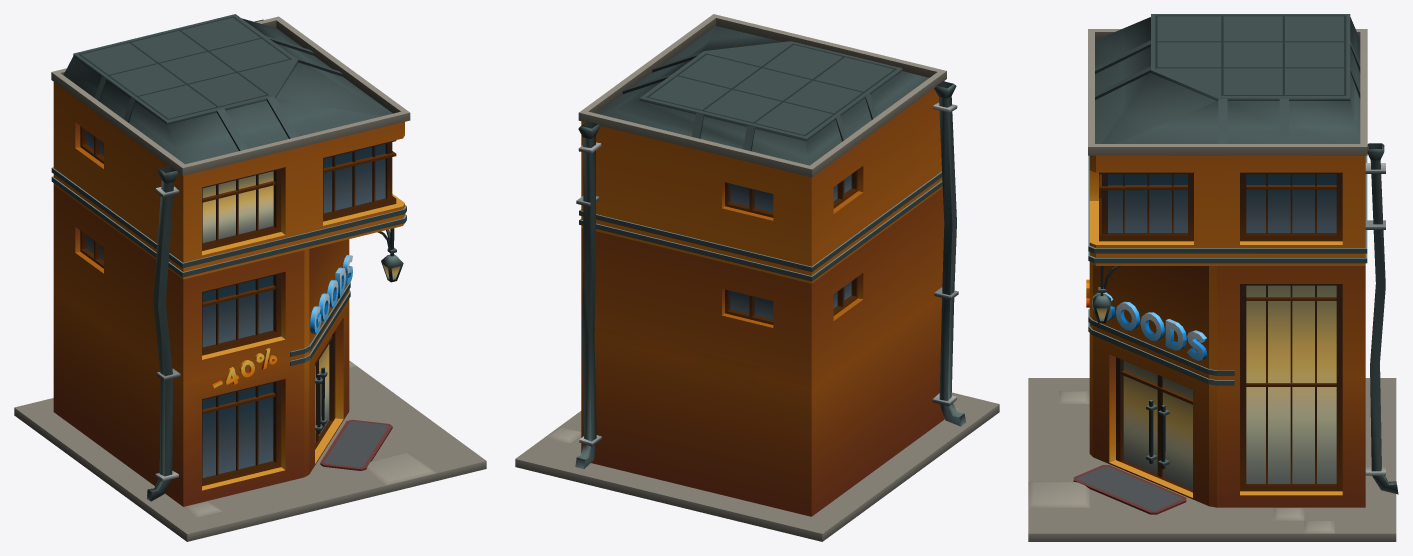
The model's file is Building_7A.fbx.
The picture shows the model from 3 angles, left to right: view 1: azimuth 30°, elevation 25°; view 2: azimuth 150°, elevation 25°; view 3: azimuth 270°, elevation 25°; orthographic projection. The views are drawn at different scales.
Parts seen in each view (by area): view 1: Building_7A, Window_Lights_7A, Sign_7A; view 2: Building_7A; view 3: Building_7A, Window_Lights_7A.
Part boxes in pixels (bbox=[...]): Building_7A: bbox=[14, 14, 486, 541]; Window_Lights_7A: bbox=[202, 171, 329, 442]; Sign_7A: bbox=[212, 348, 277, 388]; Building_7A: bbox=[515, 14, 999, 541]; Building_7A: bbox=[1028, 14, 1398, 541]; Window_Lights_7A: bbox=[1123, 285, 1336, 489].
Size of the model in its own units: 1207 by 1410 by 1207.
